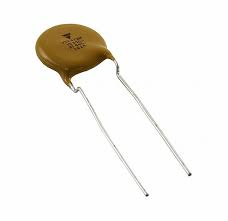ceramic capacitor: (23, 15, 135, 116)
